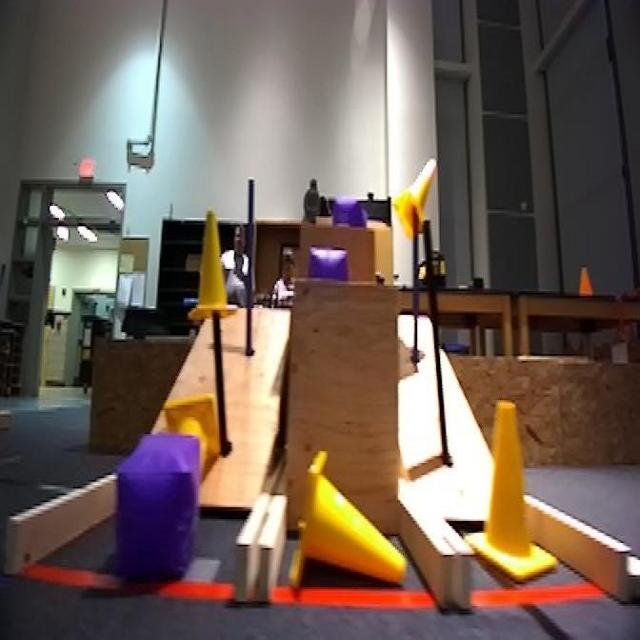frc_cone: (295, 446, 425, 587), (476, 392, 555, 590), (197, 221, 248, 330), (396, 151, 441, 240), (167, 395, 218, 454)
frc_cube: (109, 438, 197, 582), (308, 242, 346, 291), (328, 192, 363, 245)
